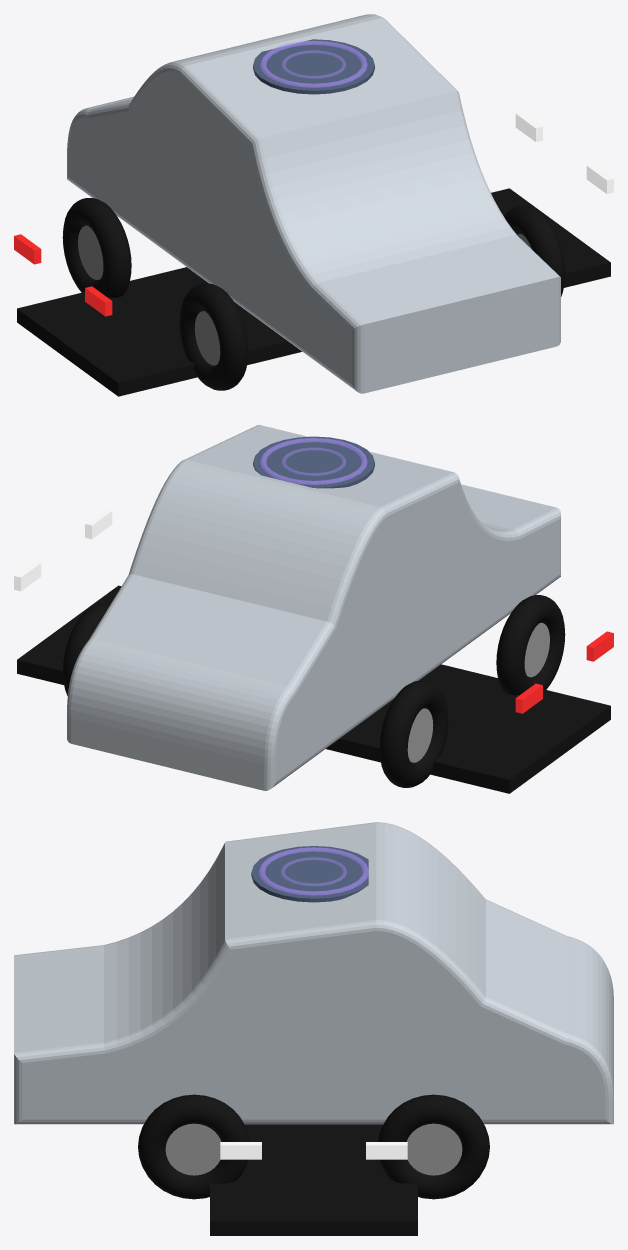
Rendered from ev-sedan.glb.
3 views of the same model, one above another, from view 1: azimuth 30°, elevation 25°; view 2: azimuth 150°, elevation 25°; view 3: azimuth 270°, elevation 25° (orthographic). The views are drawn at different scales.
Bounding box in the file's own units: 5.78 × 2.64 × 5.76.
